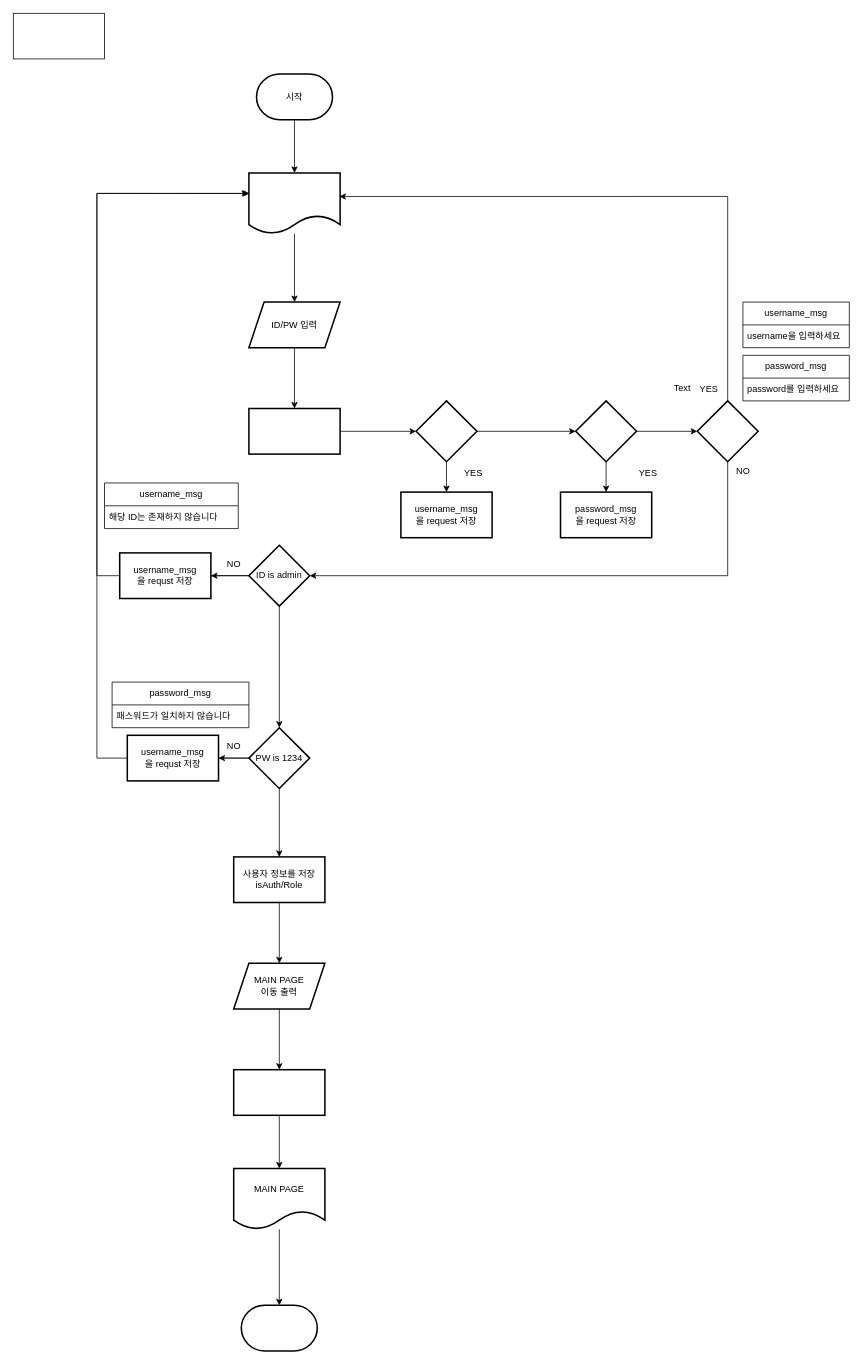
The diagram is 863 pixels wide and 1365 high, and some of its shapes have lost their labels. The shapes that lost their labels are listed below. From the top down, each one's centre as x and y in pixels, then its label:
At point 58,36: "로그인 PROCESS".
At point 294,203: "로그인 폼 (login_form.jsp)".
At point 294,430: "유효성 검사 login.jsp".
At point 446,431: "ID is NULL".
At point 606,431: "PW is NULL".
At point 727,431: "PW is NULL or PW is NULL".
At point 279,1092: "MAIN PAGE로 이동".
At point 279,1327: "종료".
